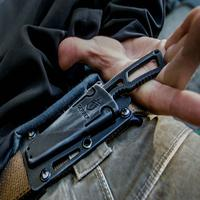knife: (21, 39, 174, 176)
